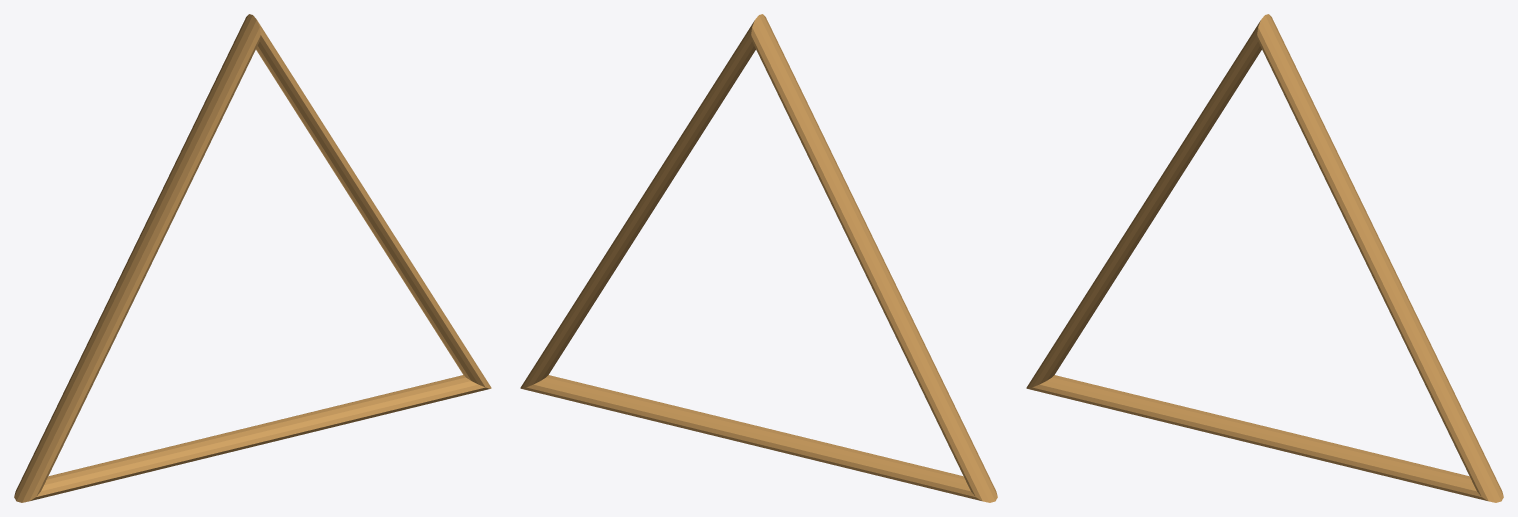
File: triangle.gltf
3 views of the same model, side by side, from view 1: azimuth 30°, elevation 25°; view 2: azimuth 150°, elevation 25°; view 3: azimuth 330°, elevation 25° (orthographic).
Parts seen in each view (by area): view 1: torus; view 2: torus; view 3: torus.
Boxes of the visible parts, x1=… form: torus: x1=14, y1=14, x2=491, y2=502; torus: x1=520, y1=14, x2=997, y2=502; torus: x1=1026, y1=14, x2=1503, y2=502.
Size of the model in its own units: 2.17 by 1.88 by 0.125.
1 material, 1 textured.
